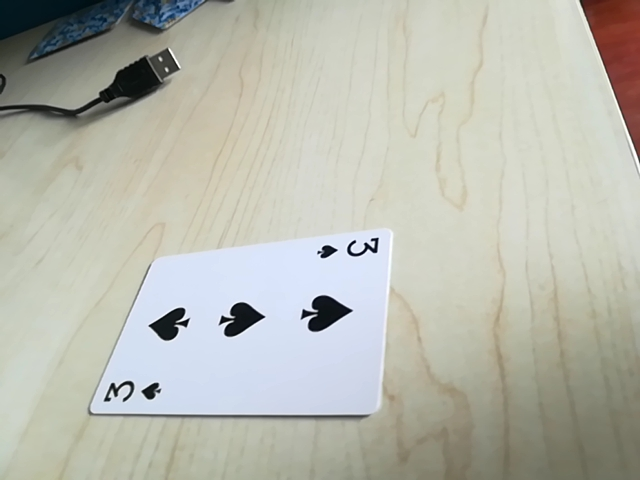ht 3: (314, 232, 385, 265), (97, 375, 162, 410)
